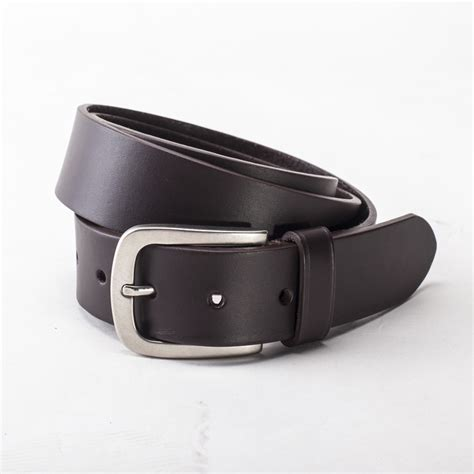cuero: (51, 102, 437, 346)
